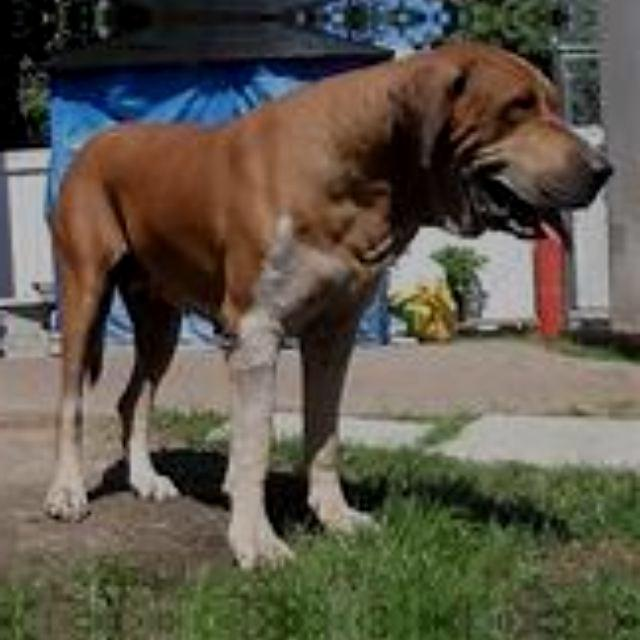dog: (0, 44, 604, 592)
